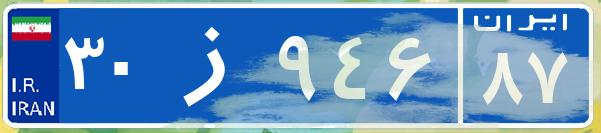0: (110, 28, 158, 105)
3: (57, 26, 110, 107)
4: (330, 28, 385, 110)
6: (385, 28, 445, 110)
7: (525, 38, 570, 115)
8: (475, 38, 525, 113)
9: (273, 28, 330, 110)
ز: (158, 15, 273, 115)
